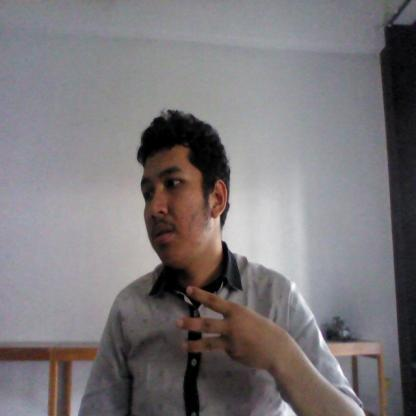E: (174, 285, 271, 369)
